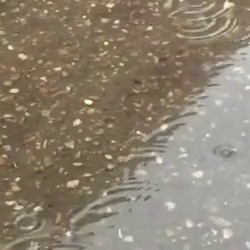drop: (167, 9, 236, 42), (163, 1, 235, 22), (4, 235, 100, 249), (15, 214, 43, 233), (211, 143, 239, 160)
